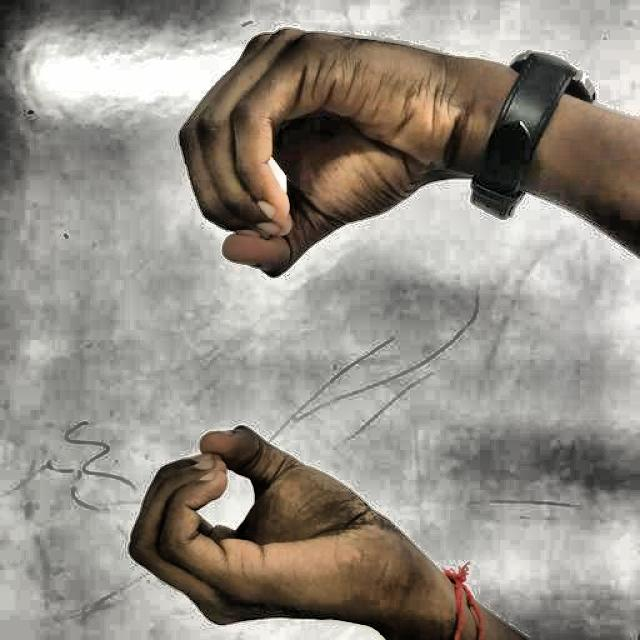Bisharga: (121, 13, 477, 637)
